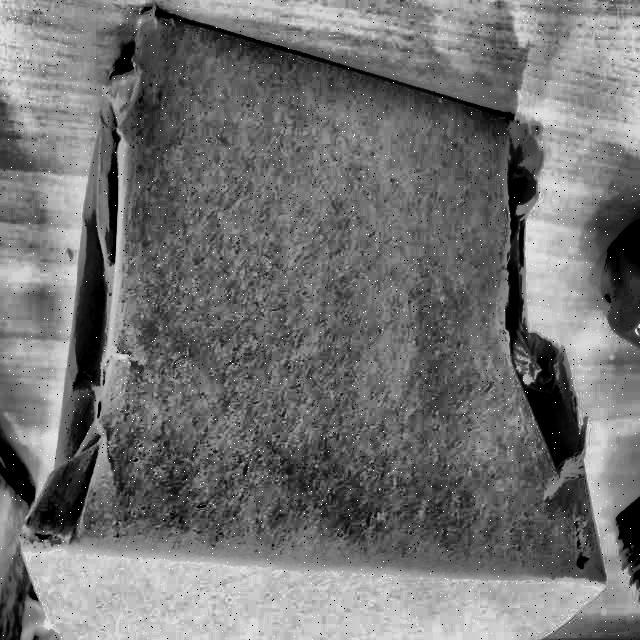box: (11, 5, 607, 640)
hole: (493, 125, 576, 493)
